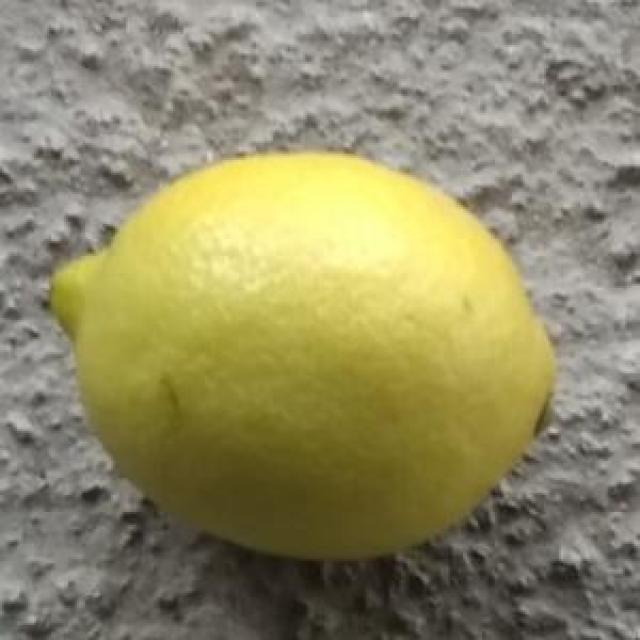lemon: (48, 148, 560, 566)
